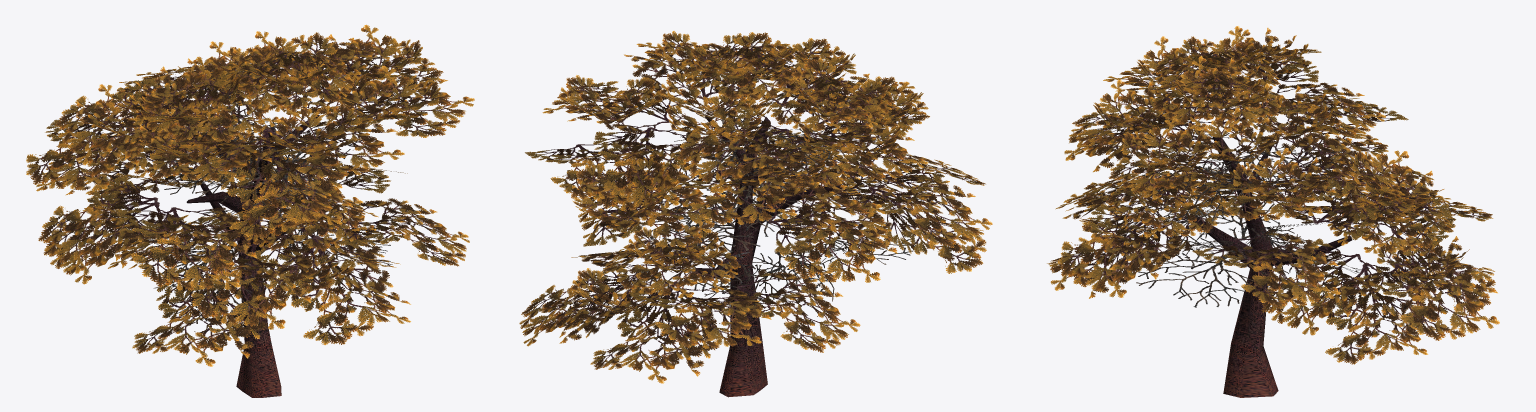
File: flora_tree_oak_hungarian_autumn_v3.glb
3 renders of one model, left to right at view 1: azimuth 30°, elevation 25°; view 2: azimuth 150°, elevation 25°; view 3: azimuth 270°, elevation 25°, orthographic. The views are drawn at different scales.
Parts seen in each view (by area): view 1: flora_tree_oak_hungarian_autumn_v3_part0, flora_tree_oak_hungarian_autumn_v3_part1; view 2: flora_tree_oak_hungarian_autumn_v3_part0, flora_tree_oak_hungarian_autumn_v3_part1; view 3: flora_tree_oak_hungarian_autumn_v3_part0, flora_tree_oak_hungarian_autumn_v3_part1.
Boxes of the visible parts, x1=… form: flora_tree_oak_hungarian_autumn_v3_part0: x1=26, y1=24, x2=474, y2=397; flora_tree_oak_hungarian_autumn_v3_part1: x1=137, y1=90, x2=392, y2=323; flora_tree_oak_hungarian_autumn_v3_part0: x1=519, y1=31, x2=992, y2=397; flora_tree_oak_hungarian_autumn_v3_part1: x1=642, y1=100, x2=916, y2=309; flora_tree_oak_hungarian_autumn_v3_part0: x1=1047, y1=26, x2=1499, y2=397; flora_tree_oak_hungarian_autumn_v3_part1: x1=1136, y1=119, x2=1369, y2=307.
Bounding box in the file's own units: 24.47 × 19.94 × 26.75.
Materials: 2 (2 with a texture image).
